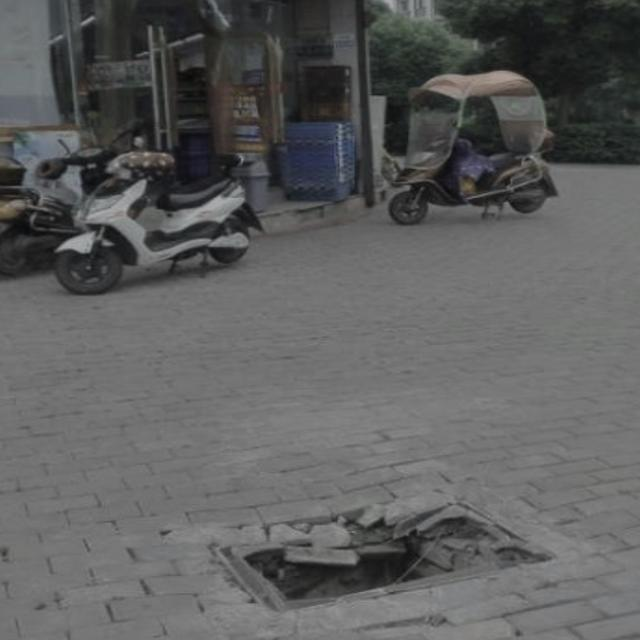broke: (208, 489, 559, 620)
